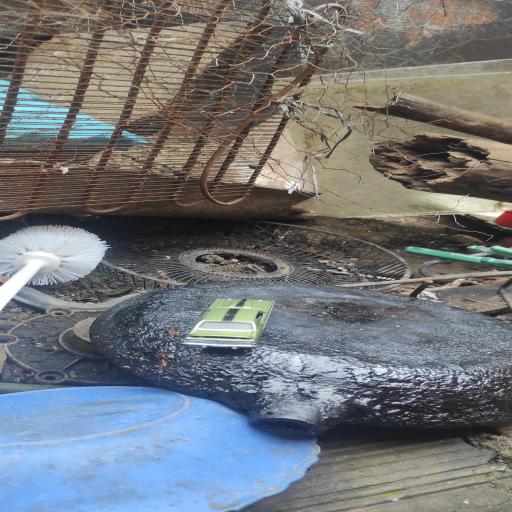Carrito: (183, 299, 274, 348)
